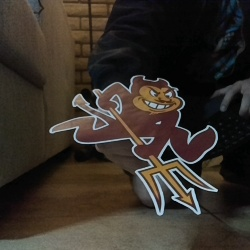sparky: (48, 74, 219, 217)
